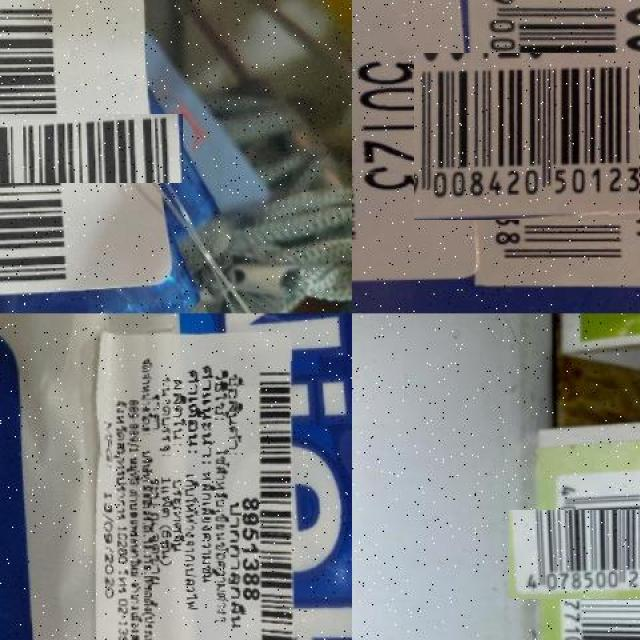Barcode: (440, 26, 640, 246), (0, 56, 126, 240), (230, 361, 306, 640), (529, 488, 640, 619)
